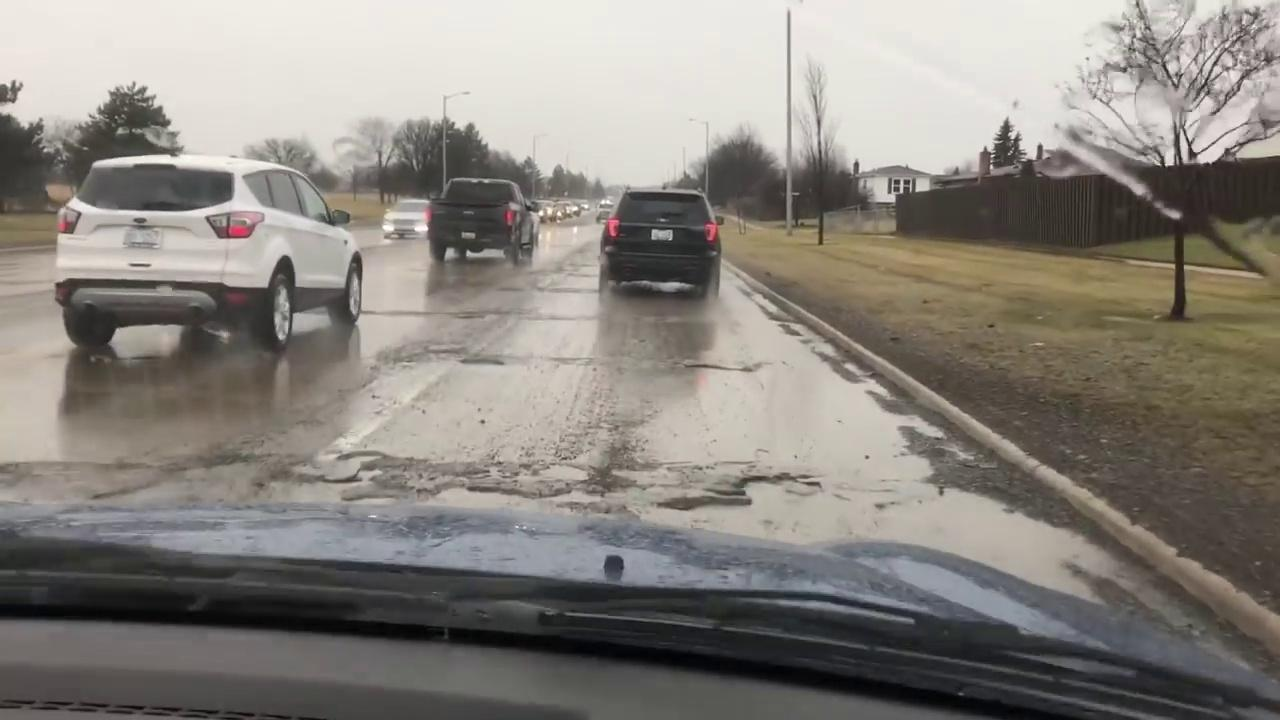pothole: (671, 478, 882, 543)
